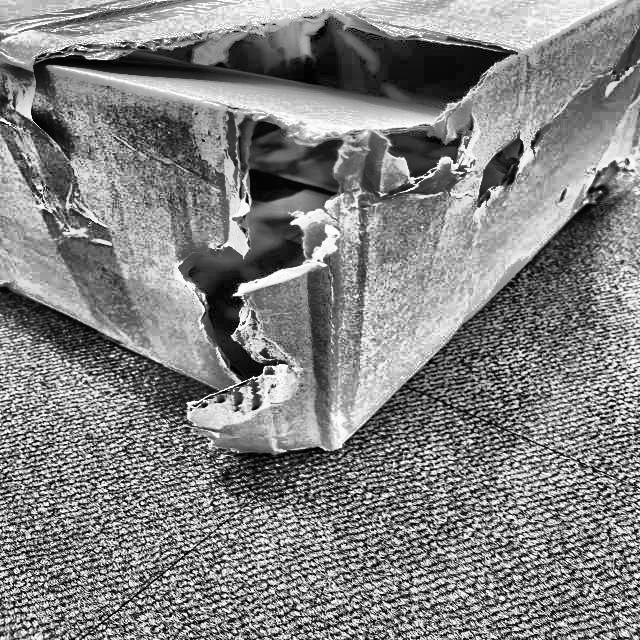box: (0, 0, 639, 466)
hole: (178, 111, 366, 397), (39, 13, 536, 119), (369, 118, 483, 174), (469, 140, 553, 196)
